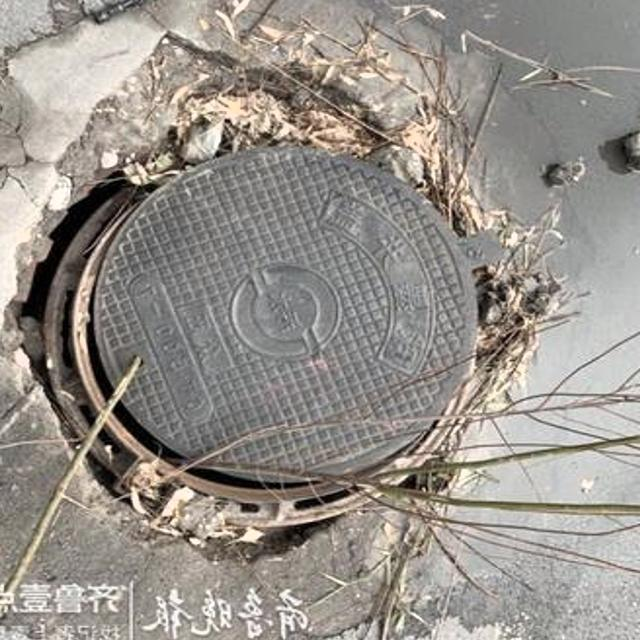circle: (0, 0, 582, 640)
